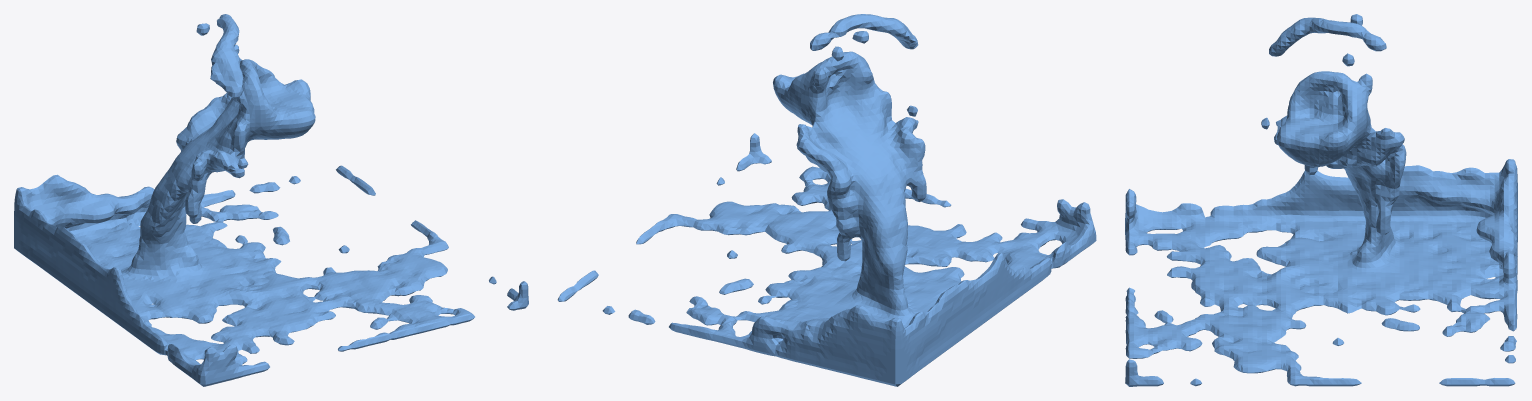
The model's file is water_0053.glb.
3 renders of one model, left to right at view 1: azimuth 30°, elevation 25°; view 2: azimuth 150°, elevation 25°; view 3: azimuth 270°, elevation 25°, orthographic. The views are drawn at different scales.
Visible parts, largest first — view 1: Water_0053; view 2: Water_0053; view 3: Water_0053.
Boxes of the visible parts, bbox=[...] form: Water_0053: bbox=[14, 14, 528, 386]; Water_0053: bbox=[557, 14, 1096, 386]; Water_0053: bbox=[1125, 14, 1517, 386].
Bounding box in the file's own units: 4.83 × 3.63 × 4.83.
